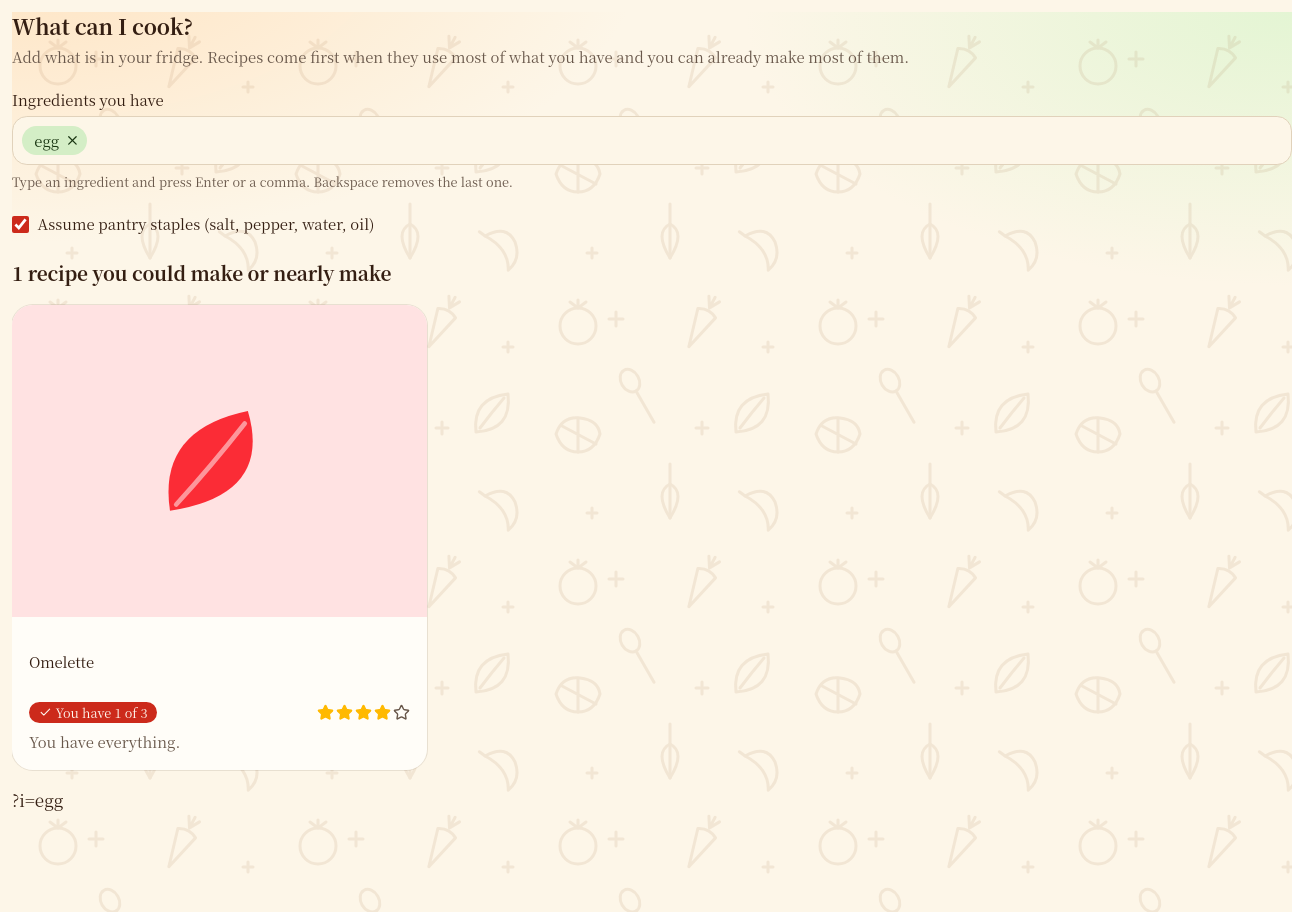
Scenario: MatchPage › clears the results and the URL when the last ingredient is removed
Expected: the heading "Omelette" is shown, [29,651,94,672]
Click the button named "Remove egg" at (73, 140), box [63,131,82,150]
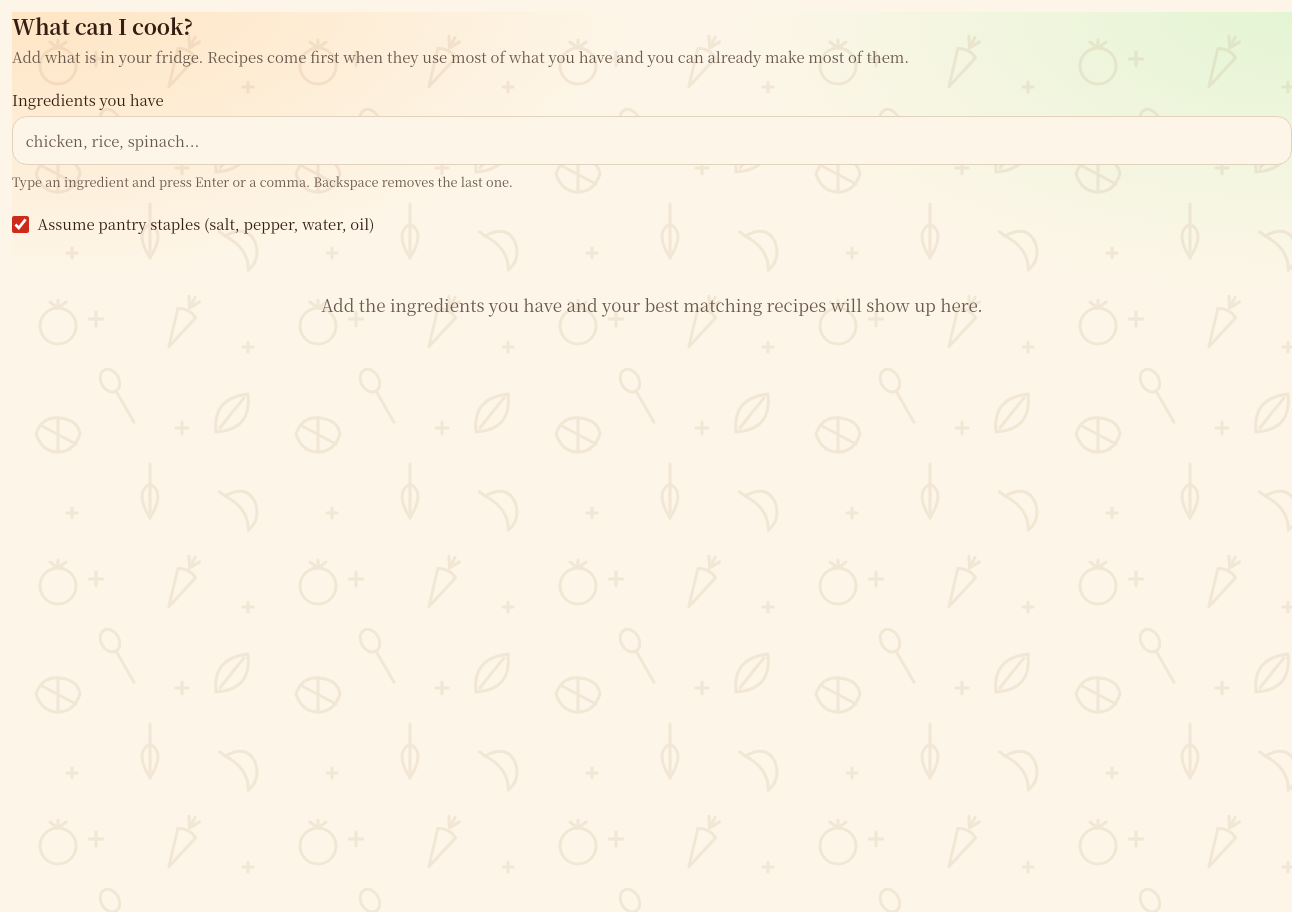
Now the text "Add the ingredients you have" is shown, box [321,292,983,317]
Now the link "Omelette" is gone
